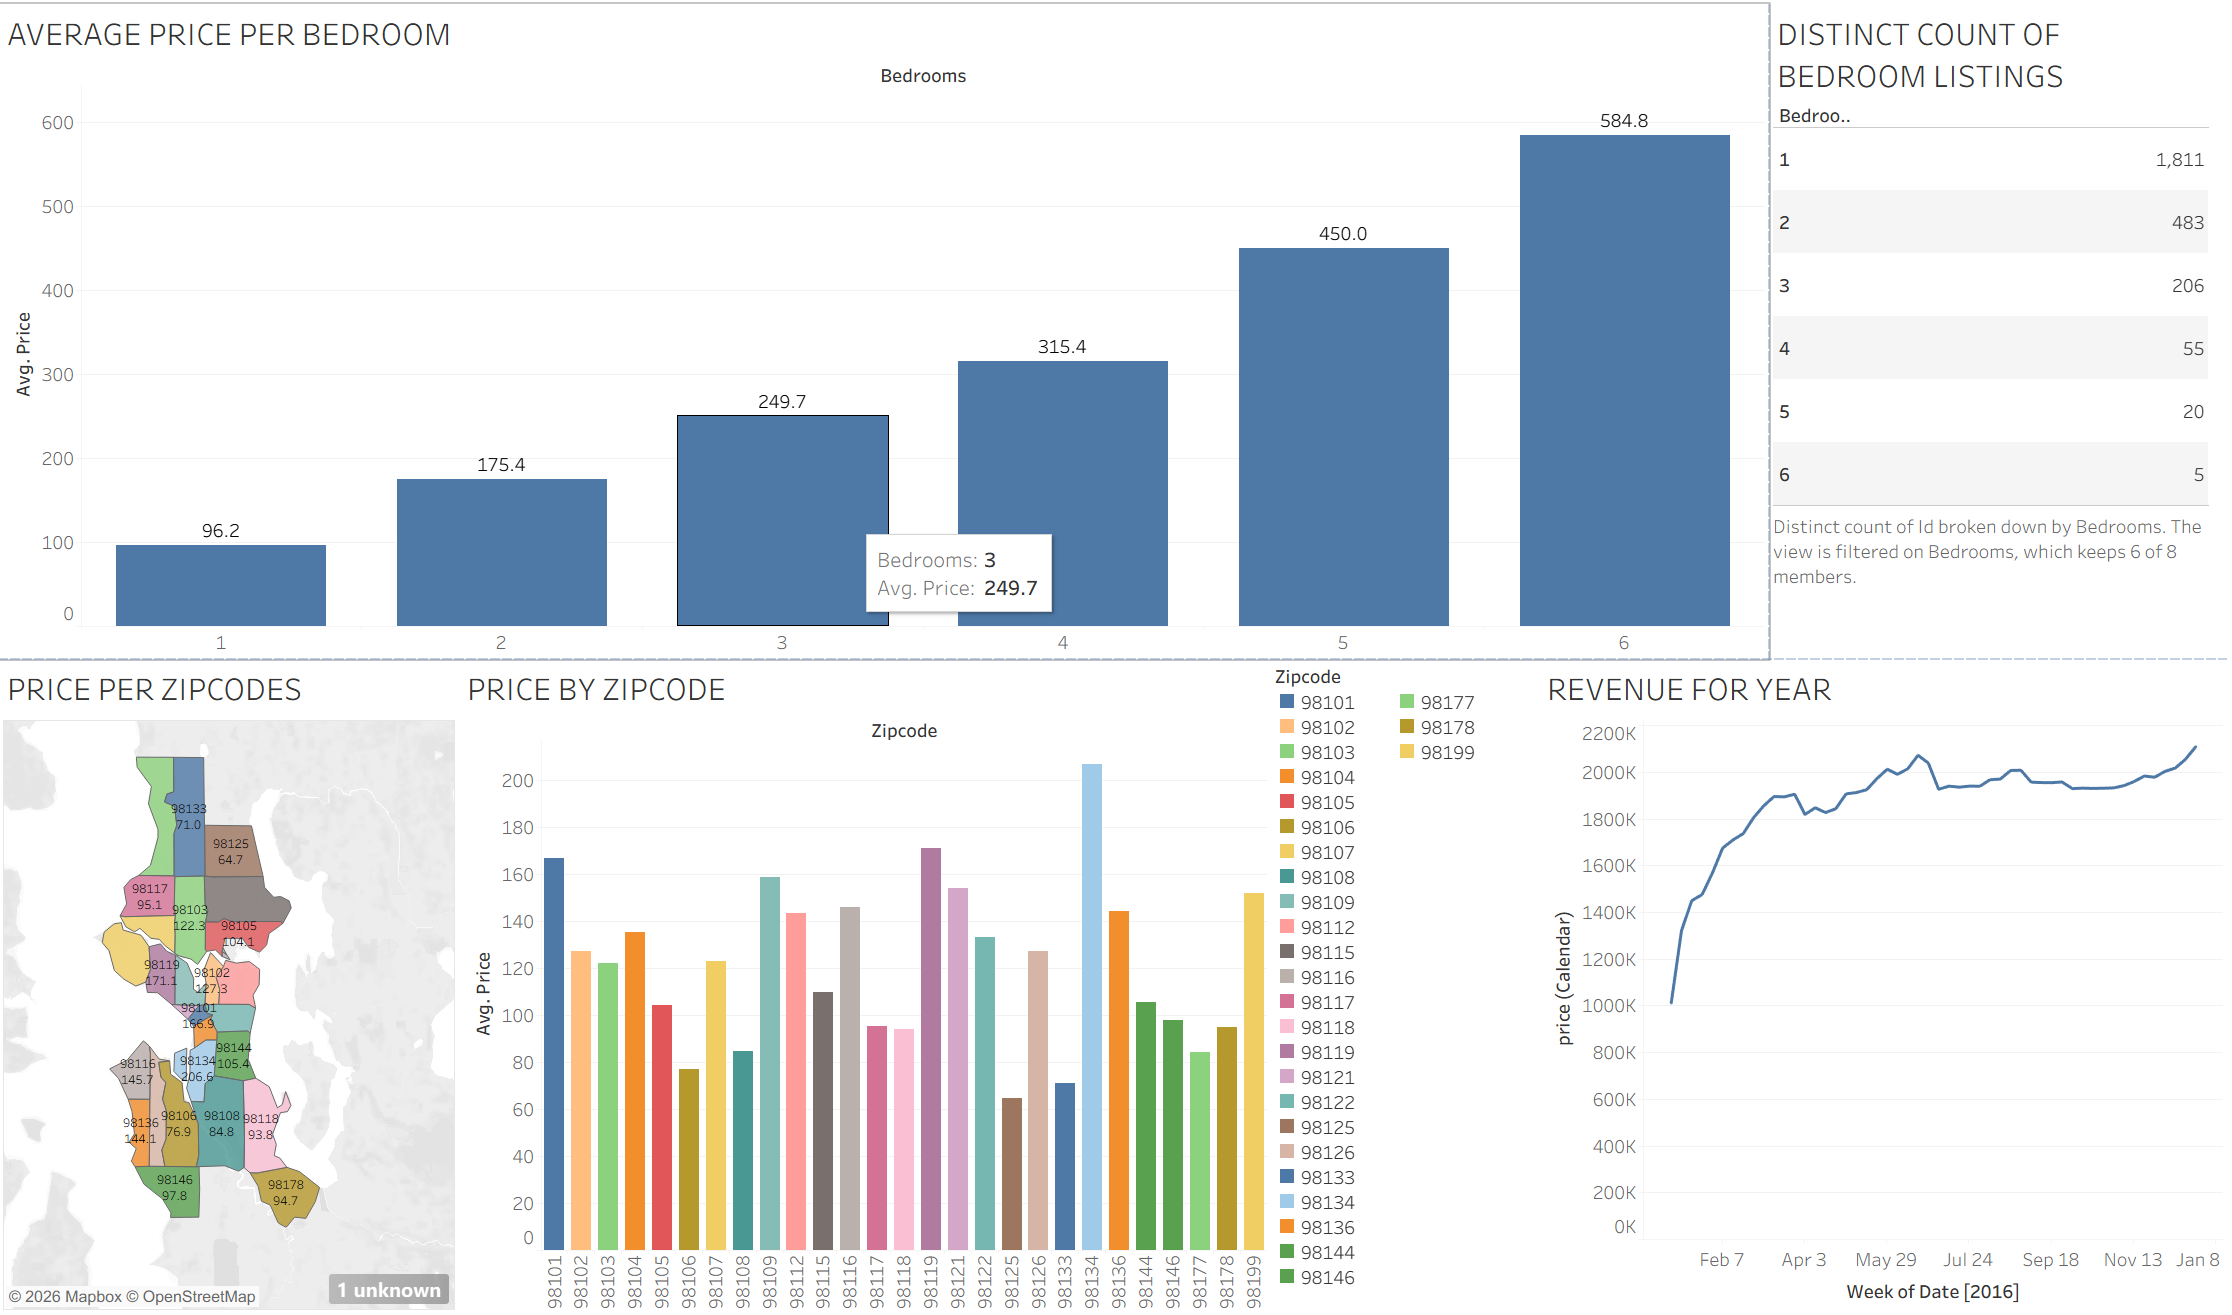

This screenshot's page, from the dashboard's own definition file:
{"tool":"tableau","page":{"name":"Dashboard 1","canvas":[1000,1000],"units":"permille","ordinal":0},"visuals":[{"type":"worksheet","title":"Sheet 4","mark":"Automatic","rows":["price"],"cols":["bedrooms"],"box":[3.6,6,788.8,494]},{"type":"worksheet","title":"Sheet 5","mark":"Automatic","rows":["bedrooms"],"box":[792.3,6,204.1,494]},{"type":"worksheet","title":"Sheet 2","mark":"Multipolygon","box":[3.6,500,205,494]},{"type":"worksheet","title":"Sheet 1","mark":"Automatic","rows":["price"],"cols":["zipcode"],"box":[208.6,500,361.9,494]},{"type":"legend","title":"Sheet 1","param":"[federated.1tu6vx008g5qby19se1r501y4uek].[none:zipcode:ok]","box":[570.4,500,119.4,494]},{"type":"worksheet","title":"Sheet 3","mark":"Automatic","rows":["price (Calendar)"],"cols":["date"],"box":[689.8,500,306.6,494]}]}

Visuals, with their boxes on the dashboard's canvas, which has no fixed pixel size, in thousandths of its width and height (x1, y1, x2, y2). These are canvas units, not pixel positions in the 2232x1315 screenshot, which may show the page scaled, cropped or inside an application window:
"Sheet 4" worksheet: (4,6,792,500)
"Sheet 5" worksheet: (792,6,996,500)
"Sheet 2" worksheet (Multipolygon marks): (4,500,209,994)
"Sheet 1" worksheet: (209,500,570,994)
"Sheet 1" legend: (570,500,690,994)
"Sheet 3" worksheet: (690,500,996,994)
